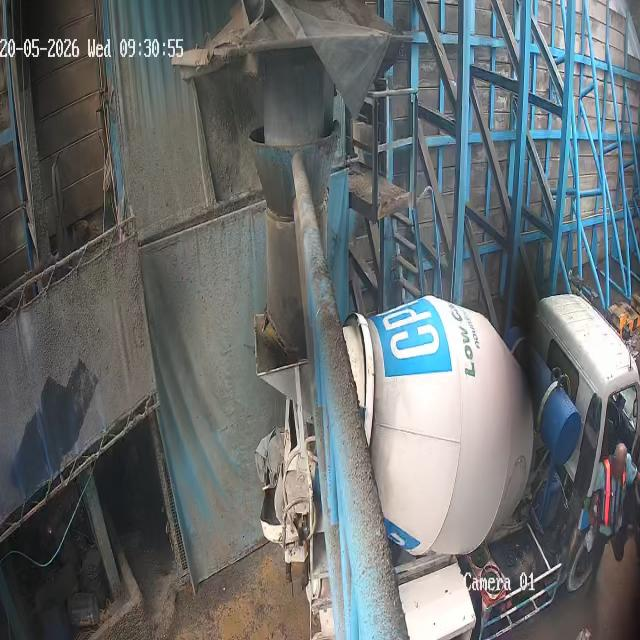cement_mixer_truck: (253, 287, 640, 640)
swing_chute: (250, 131, 337, 351)
